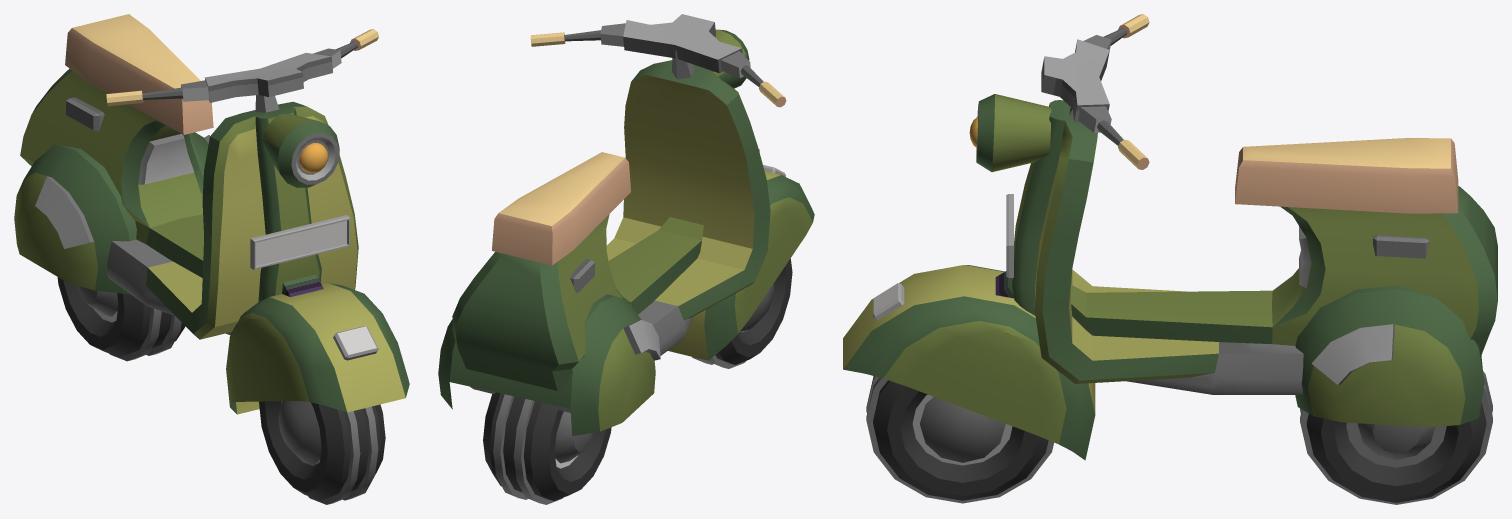
The model's file is Motorbike.fbx.
3 views of the same model, side by side, from view 1: azimuth 30°, elevation 25°; view 2: azimuth 150°, elevation 25°; view 3: azimuth 270°, elevation 25° (orthographic). The views are drawn at different scales.
Parts seen in each view (by area): view 1: Motorbike; view 2: Motorbike; view 3: Motorbike.
Boxes of the visible parts, <box> form: Motorbike: <box>14,14,409,504</box>; Motorbike: <box>438,14,814,504</box>; Motorbike: <box>843,14,1497,504</box>.
Size of the model in its own units: 649 by 893 by 1229.
